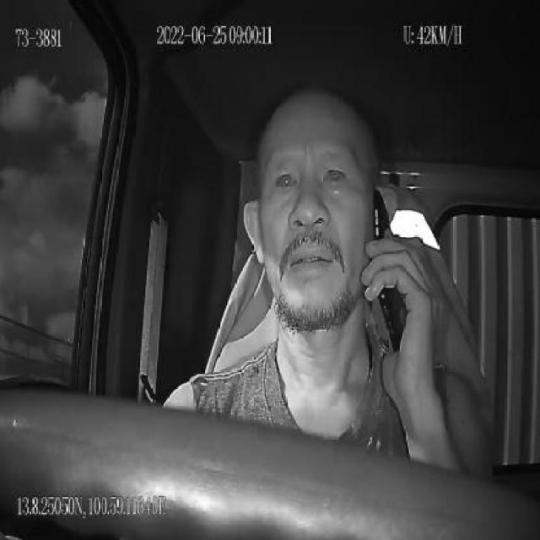phone: (371, 184, 405, 358)
